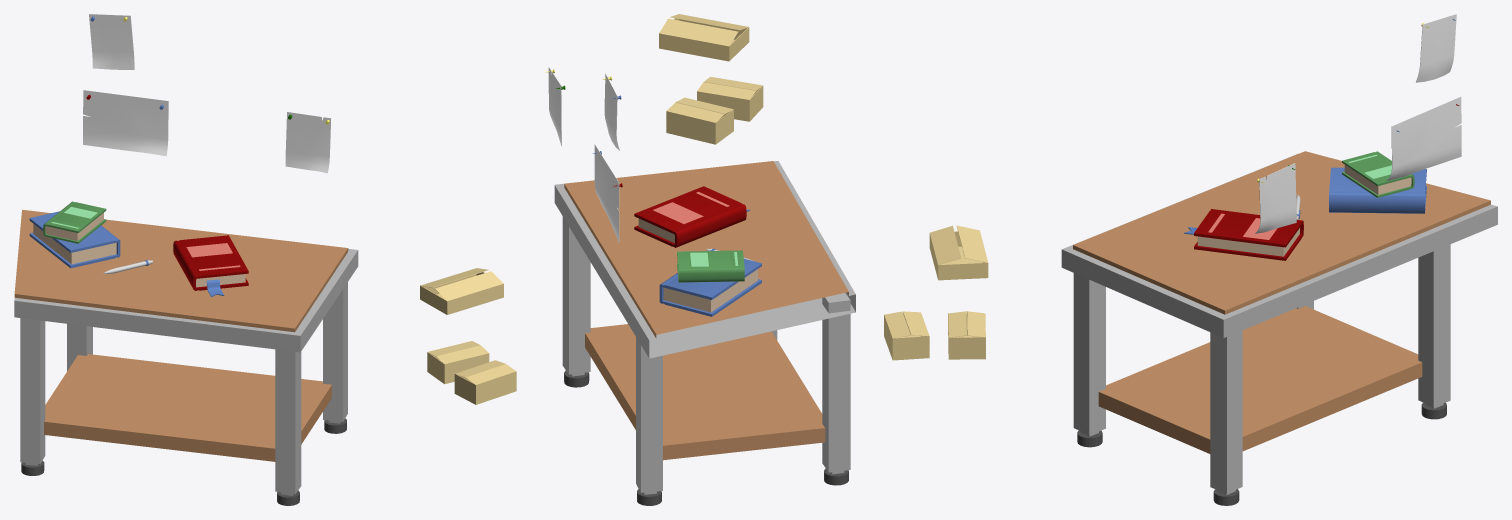
Rendered from FindPassword_office_L2_v5.gltf.
The picture shows the model from 3 angles, left to right: view 1: azimuth 30°, elevation 25°; view 2: azimuth 150°, elevation 25°; view 3: azimuth 270°, elevation 25°; orthographic projection. The views are drawn at different scales.
Visible parts, largest first — view 1: Level_2; view 2: Level_2; view 3: Level_2.
Part boxes in pixels (bbox=[...]): Level_2: bbox=[14, 14, 516, 505]; Level_2: bbox=[545, 14, 855, 505]; Level_2: bbox=[884, 14, 1497, 505].
Bounding box in the file's own units: 2.14 × 2.37 × 3.18.
